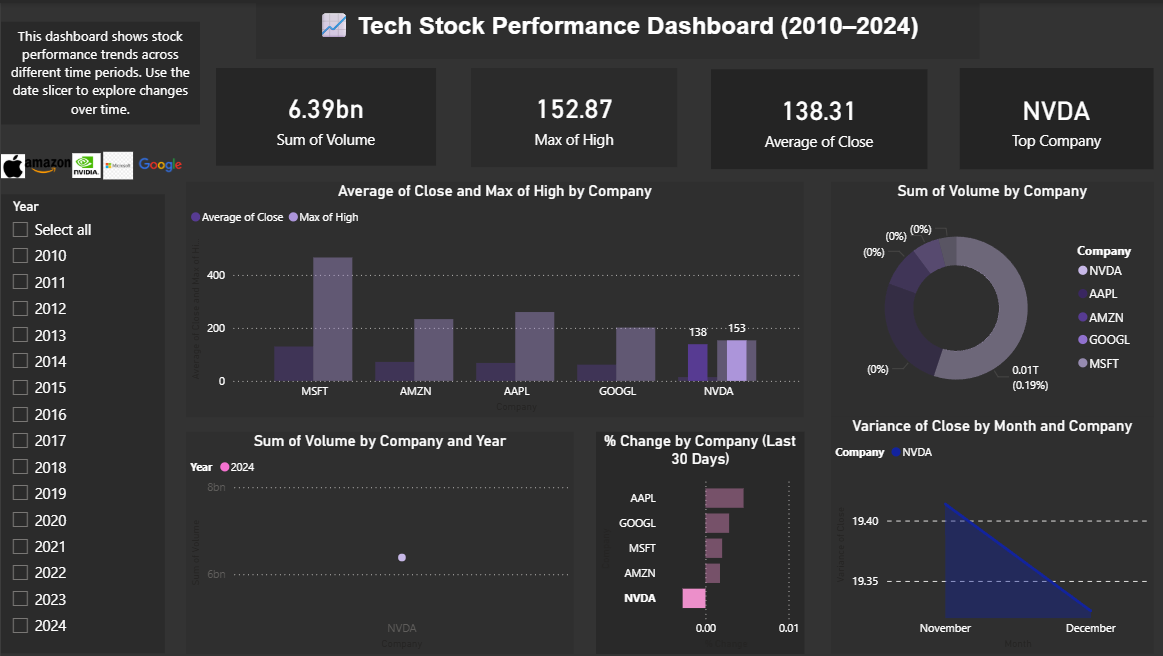

The dashboard page shown, as its layout file describes it:
{"tool":"powerbi","page":{"name":"Page 1","canvas":[1280,720],"ordinal":0},"visuals":[{"type":"card","fields":{"Values":["Max(Stock data.High)"]},"box":[516,71.4,226.4,108.4],"z":0},{"type":"clusteredColumnChart","fields":{"Category":["Stock data.Company"],"Y":["Avg(Stock data.Close)","Max(Stock data.High)"]},"box":[202.9,195.7,678.6,258.6],"z":1000},{"type":"slicer","fields":{"Values":["Stock data.Year"]},"box":[0,209.9,179.8,503.6],"z":2000},{"type":"card","fields":{"Values":["Sum(Stock data.Volume)"]},"box":[236,71.4,241.5,107],"z":3000},{"type":"textbox","box":[279.9,0,794.5,61.7],"z":4000},{"type":"donutChart","fields":{"Category":["Stock data.Company"],"Y":["Sum(Stock data.Volume)"]},"box":[911.4,195.7,354.3,258.6],"z":5000},{"type":"card","fields":{"Values":["Avg(Stock data.Close)"]},"box":[779.4,72.7,237.4,109.8],"z":6000},{"type":"image","box":[0,161.9,26.1,34.3],"z":7000},{"type":"image","box":[26.1,164.7,50.8,28.8],"z":8000},{"type":"image","box":[78.2,163.3,31.6,30.2],"z":9000},{"type":"image","box":[109.8,163.3,37,30.2],"z":10000},{"type":"image","box":[146.8,167.4,56.3,20.6],"z":11000},{"type":"areaChart","fields":{"Category":["Stock data.Date.Variation.Date Hierarchy.Month"],"Series":["Stock data.Company"],"Y":["Variance(Stock data.Close)"]},"box":[911.4,454.3,354.3,260],"z":12000},{"type":"card","fields":{"Values":["Stock data.Top Company"]},"box":[1052.5,71.4,212.7,111.1],"z":13000},{"type":"clusteredBarChart","title":"% Change by Company (Last 30 Days)","fields":{"Category":["Stock data.Company"],"Y":["Stock data.% Change"]},"box":[652.9,470,228.6,244.3],"z":14000},{"type":"textbox","box":[0,20.6,218.2,112.5],"z":15000},{"type":"areaChart","fields":{"Category":["Stock data.Company"],"Y":["Sum(Stock data.Volume)"],"Series":["Stock data.Year"]},"box":[202.9,470,425.7,244.3],"z":16000}]}

Visuals, with their boxes in screenshot pixels (x1, y1, x2, y2), scaled from the page's 1280x720 canvas onto the 1163x656 screenshot:
card - Max(Stock data.High): {"left": 469, "top": 65, "right": 675, "bottom": 164}
clusteredColumnChart - Stock data.Company x Avg(Stock data.Close): {"left": 184, "top": 178, "right": 801, "bottom": 414}
slicer - Stock data.Year: {"left": 0, "top": 191, "right": 163, "bottom": 650}
card - Sum(Stock data.Volume): {"left": 214, "top": 65, "right": 434, "bottom": 163}
textbox: {"left": 254, "top": 0, "right": 976, "bottom": 56}
donutChart - Stock data.Company x Sum(Stock data.Volume): {"left": 828, "top": 178, "right": 1150, "bottom": 414}
card - Avg(Stock data.Close): {"left": 708, "top": 66, "right": 924, "bottom": 166}
image: {"left": 0, "top": 148, "right": 24, "bottom": 179}
image: {"left": 24, "top": 150, "right": 70, "bottom": 176}
image: {"left": 71, "top": 149, "right": 100, "bottom": 176}
image: {"left": 100, "top": 149, "right": 133, "bottom": 176}
image: {"left": 133, "top": 153, "right": 185, "bottom": 171}
areaChart - Stock data.Date.Variation.Date Hierarchy.Month x Stock data.Company: {"left": 828, "top": 414, "right": 1150, "bottom": 651}
card - Stock data.Top Company: {"left": 956, "top": 65, "right": 1150, "bottom": 166}
"% Change by Company (Last 30 Days)" clusteredBarChart: {"left": 593, "top": 428, "right": 801, "bottom": 651}
textbox: {"left": 0, "top": 19, "right": 198, "bottom": 121}
areaChart - Stock data.Company x Sum(Stock data.Volume): {"left": 184, "top": 428, "right": 571, "bottom": 651}
